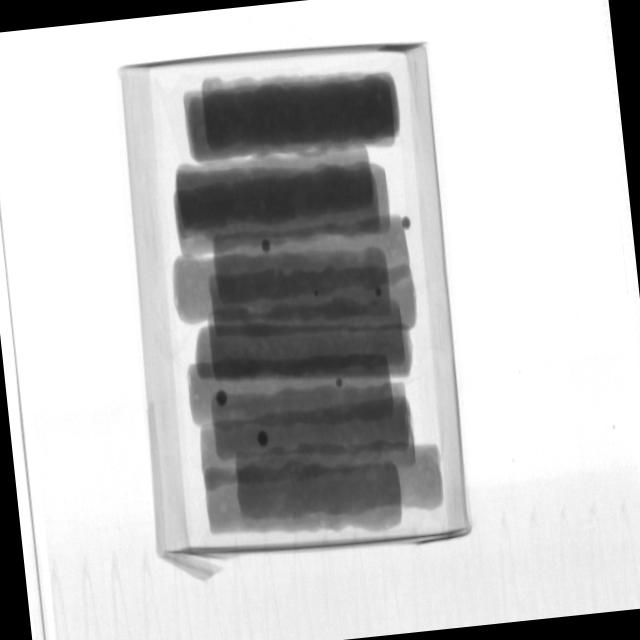ym: (216, 389, 229, 407), (257, 430, 270, 447), (262, 239, 273, 254), (403, 215, 412, 227), (376, 285, 383, 295), (336, 379, 343, 388), (313, 290, 320, 297)
